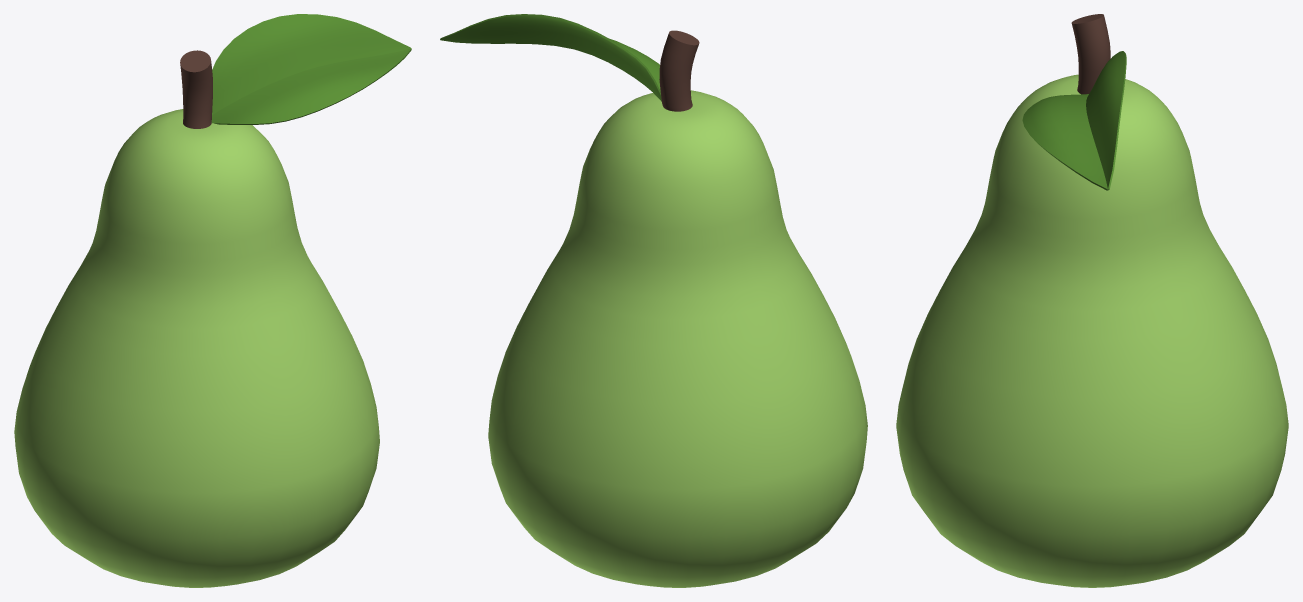
The model's file is pear.glb.
3 renders of one model, left to right at view 1: azimuth 30°, elevation 25°; view 2: azimuth 150°, elevation 25°; view 3: azimuth 270°, elevation 25°, orthographic. The views are drawn at different scales.
Parts seen in each view (by area): view 1: Sphere.476, Circle.035; view 2: Sphere.476, Circle.035; view 3: Sphere.476, Circle.035.
Part boxes in pixels (x1=…): Sphere.476: x1=14, y1=50, x2=379, y2=587; Circle.035: x1=211, y1=14, x2=411, y2=124; Sphere.476: x1=488, y1=30, x2=867, y2=587; Circle.035: x1=440, y1=14, x2=661, y2=101; Sphere.476: x1=896, y1=14, x2=1288, y2=587; Circle.035: x1=1022, y1=51, x2=1126, y2=190.
Size of the model in its own units: 1.72 by 2.21 by 1.43.
1 material, 1 textured.
